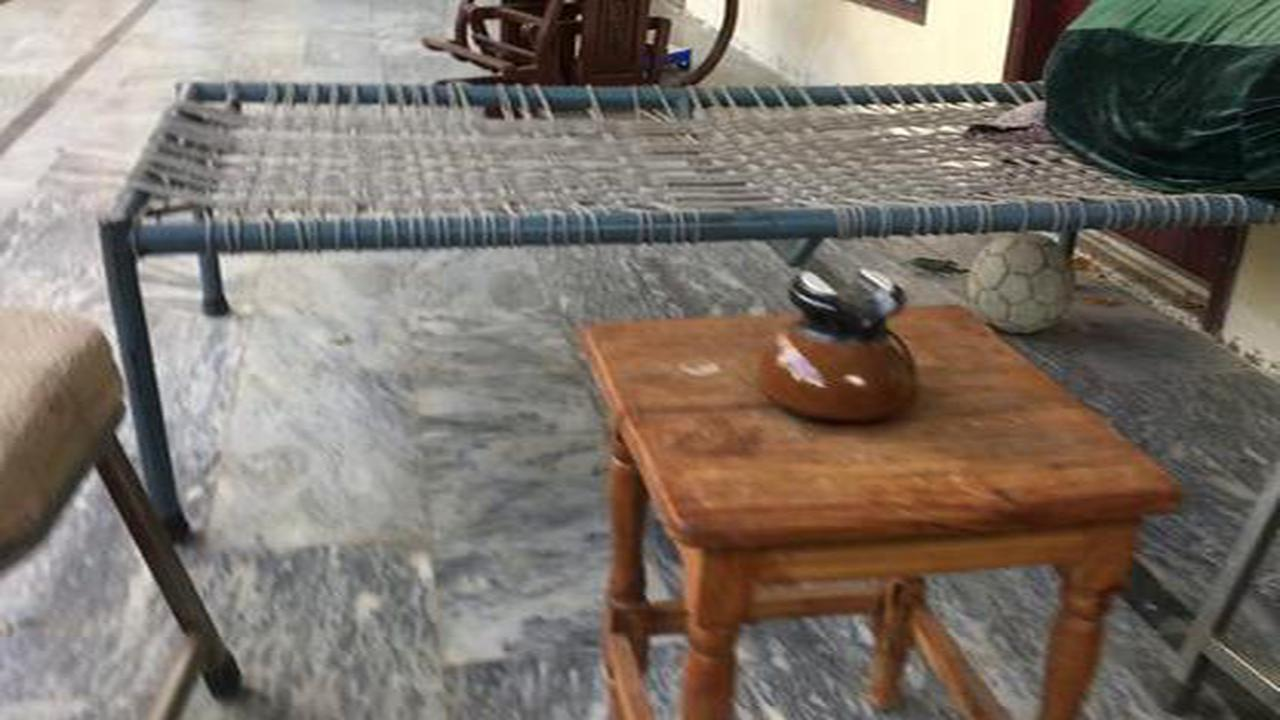insulator_pin: (733, 245, 957, 442)
